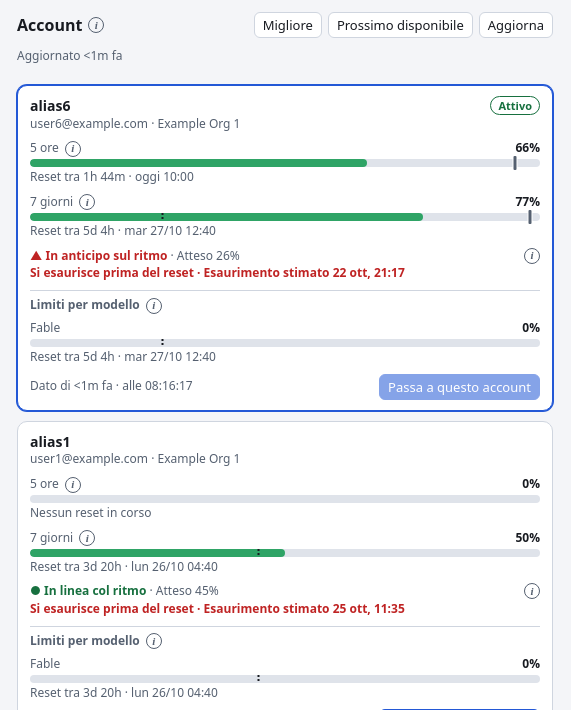
Dashboard: cambio account › cambio rapido «Prossimo disponibile»
Step 1. Click the button "Prossimo disponibile" → (400, 25), box [328,12,473,38]
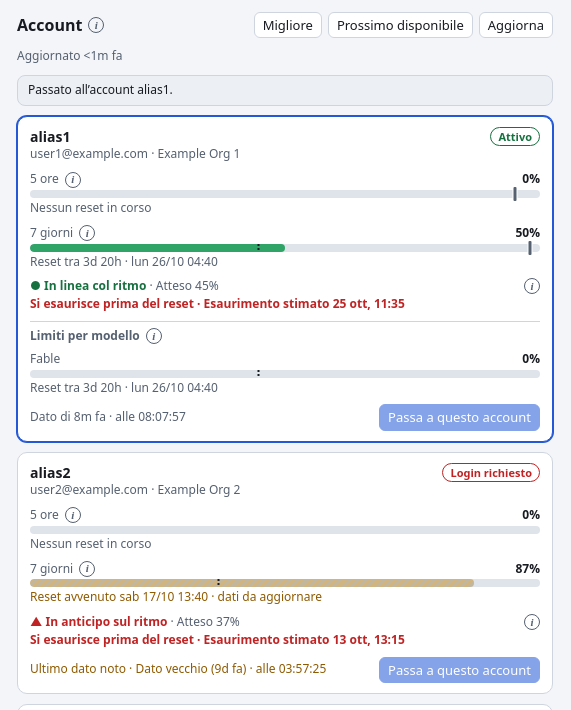
Expected: the text "Passato all’account alias1." is shown, [17,75,553,106]
